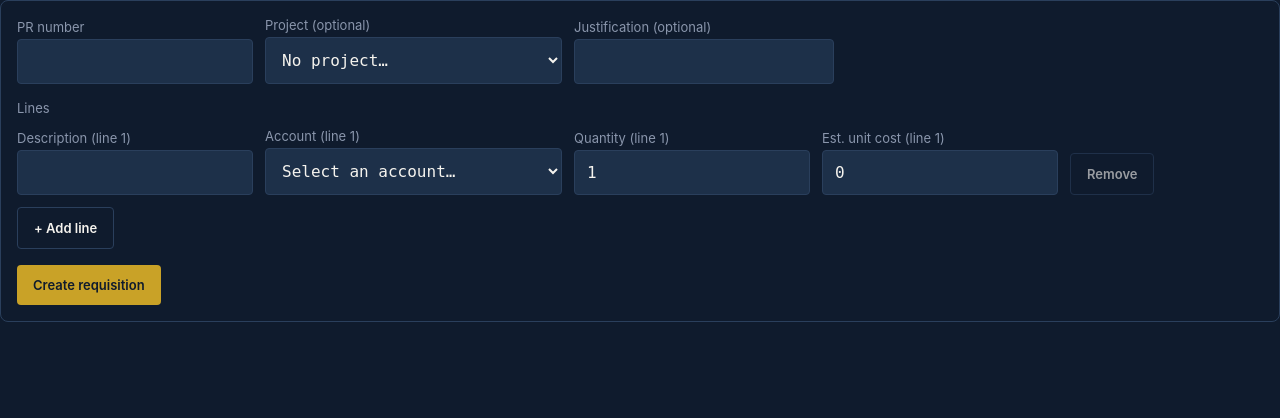
CreateRequisitionForm › adds a second line when "+ Add line" is clicked
Click the button "+ Add line" at (66, 228), box [17,207,114,249]
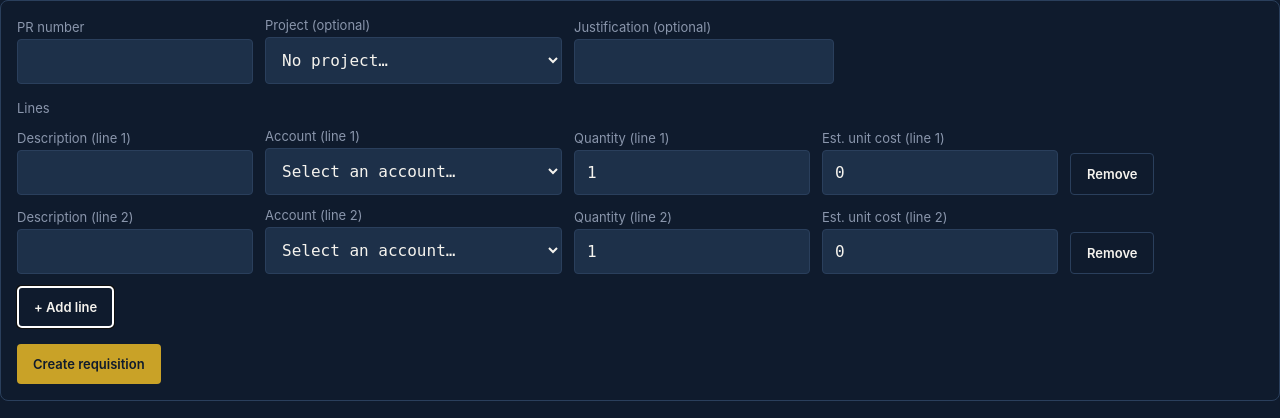
Check: the field labelled "Description (line 2)" is shown, box [17,229,253,274]
